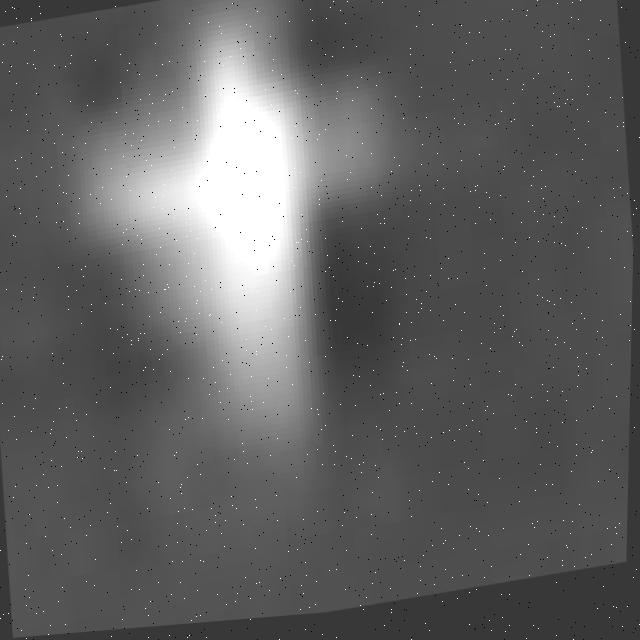person: (86, 1, 386, 528)
